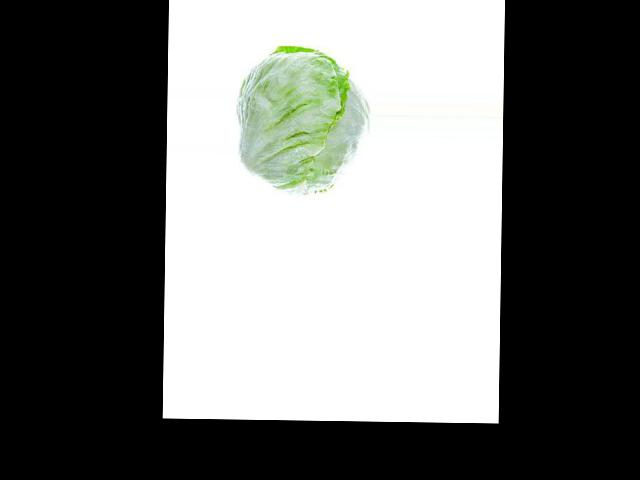lettuce: (243, 55, 346, 160)
